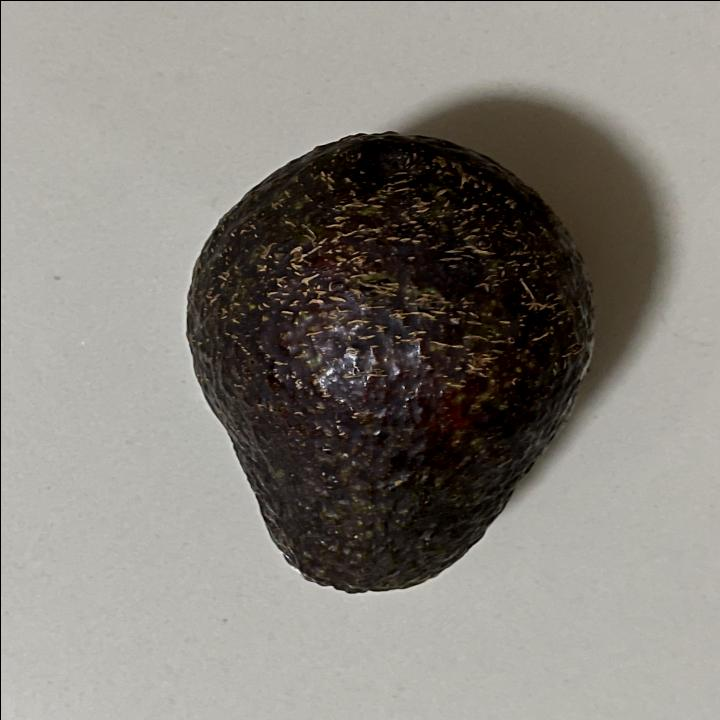Level2: (172, 126, 606, 602)
